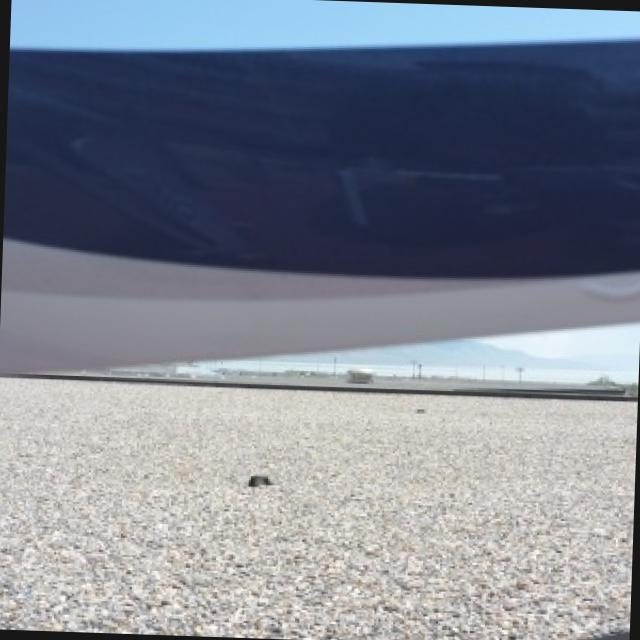healthy: (0, 0, 640, 371), (0, 377, 637, 640)
